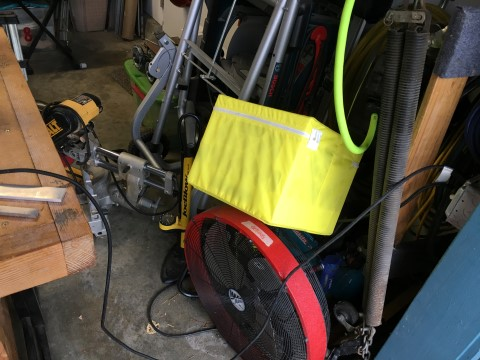cube: (186, 94, 364, 236)
